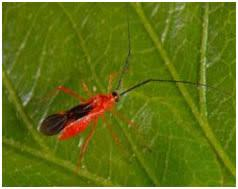Helopeltis-insect: (38, 90, 122, 141)
